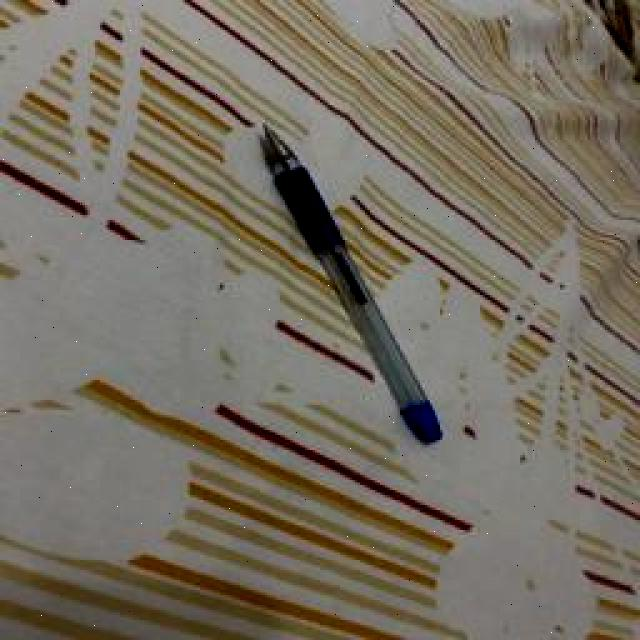pen: (260, 120, 442, 445)
